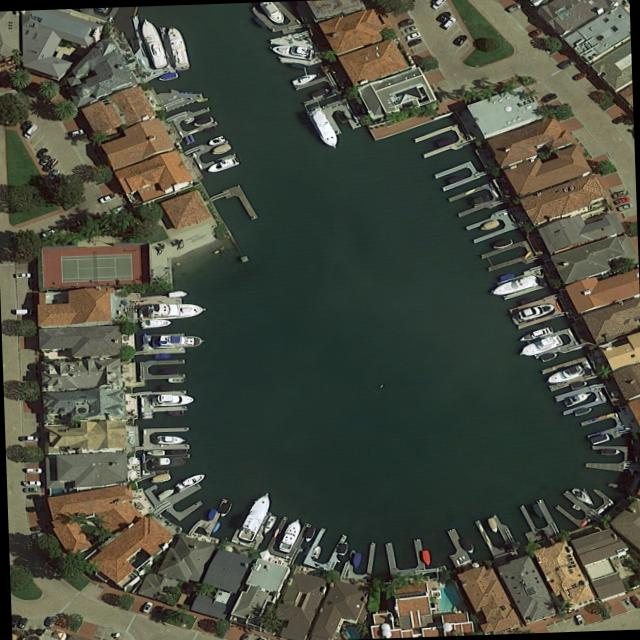large-vehicle: (15, 308, 31, 315)
ship: (236, 491, 275, 542), (305, 106, 343, 151), (137, 16, 168, 70), (489, 274, 538, 298), (516, 334, 563, 359), (510, 301, 555, 325), (165, 26, 190, 68), (275, 517, 304, 553), (147, 302, 203, 319), (544, 365, 584, 386), (151, 334, 204, 348), (270, 43, 313, 60), (173, 471, 206, 493), (257, 2, 287, 26), (204, 156, 239, 175), (517, 326, 553, 343), (569, 486, 596, 508), (150, 393, 195, 406), (562, 390, 592, 407), (290, 72, 318, 86), (150, 457, 185, 468), (260, 514, 277, 535), (458, 536, 476, 555), (208, 143, 232, 156), (155, 486, 175, 501), (140, 318, 170, 328), (490, 237, 513, 250), (477, 219, 500, 232), (309, 86, 329, 100), (191, 116, 214, 128), (589, 432, 609, 445), (156, 436, 184, 445), (148, 473, 170, 484), (206, 134, 226, 146), (218, 501, 233, 517), (434, 136, 454, 148), (333, 109, 348, 124), (157, 72, 178, 82), (571, 406, 592, 416), (530, 503, 544, 518), (539, 351, 558, 362), (486, 518, 499, 534), (336, 541, 349, 556), (304, 526, 316, 542), (569, 380, 588, 390), (497, 272, 515, 282), (167, 290, 187, 299), (447, 174, 463, 185), (351, 552, 361, 569), (158, 367, 178, 375), (420, 550, 430, 565), (289, 62, 307, 70), (600, 448, 619, 455), (210, 521, 221, 533), (311, 545, 321, 558), (205, 508, 216, 519), (182, 115, 194, 125), (167, 410, 184, 417), (146, 450, 164, 456), (153, 353, 171, 359), (167, 377, 183, 383), (203, 126, 216, 133), (570, 503, 580, 511)
small-vehicle: (21, 123, 39, 139), (41, 157, 58, 173), (452, 33, 469, 47), (38, 227, 56, 240), (108, 204, 127, 216), (440, 16, 456, 30), (557, 58, 575, 70), (505, 1, 522, 13), (397, 17, 415, 28), (18, 119, 33, 132), (570, 71, 589, 81), (63, 219, 82, 229), (97, 193, 116, 203), (540, 92, 557, 103), (528, 27, 543, 39), (429, 0, 446, 10), (67, 128, 84, 138), (34, 147, 48, 159), (628, 595, 640, 608), (38, 154, 51, 166), (46, 168, 59, 180), (437, 11, 451, 22), (612, 196, 629, 205), (616, 202, 633, 211), (41, 615, 53, 627), (405, 31, 421, 40), (16, 618, 28, 630), (573, 613, 584, 626), (141, 601, 152, 614), (611, 190, 628, 198), (406, 38, 421, 47), (30, 523, 45, 532), (20, 435, 38, 442), (26, 505, 42, 512), (403, 25, 417, 33), (23, 486, 38, 493), (25, 467, 41, 473), (14, 272, 30, 278), (23, 481, 40, 486), (239, 632, 249, 640)
